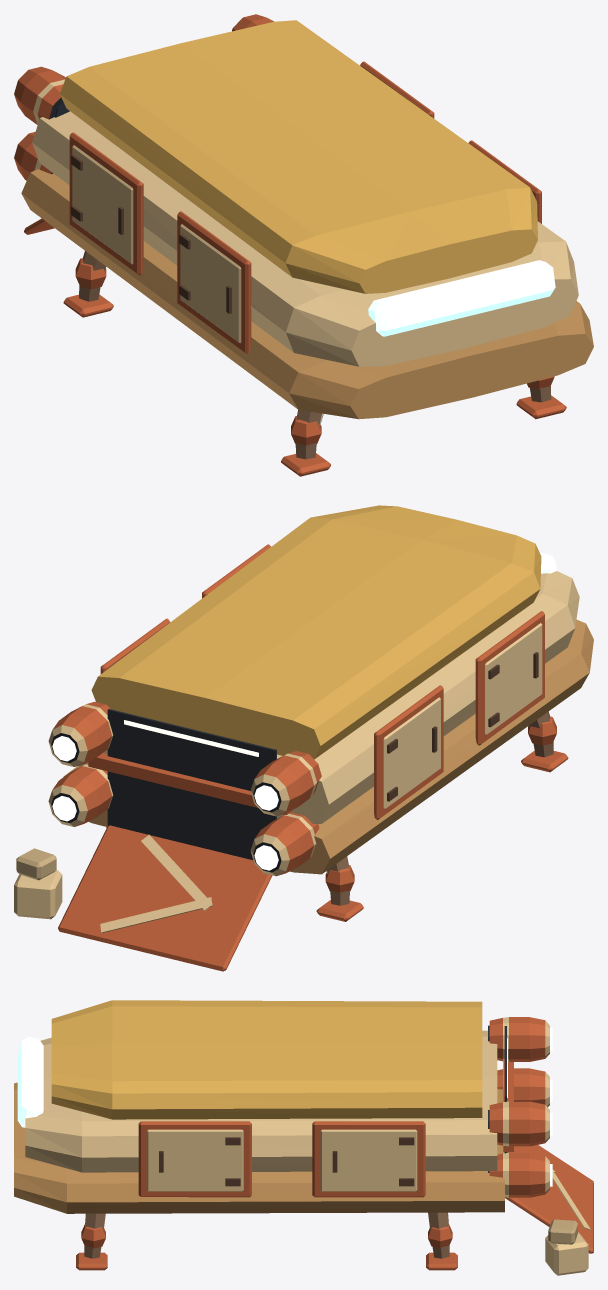
Rendered from dun-f_offen.glb.
The picture shows the model from 3 angles, top to bottom: view 1: azimuth 30°, elevation 25°; view 2: azimuth 150°, elevation 25°; view 3: azimuth 270°, elevation 25°; orthographic projection. The views are drawn at different scales.
Parts seen in each view (by area): view 1: rumpf_oben, rumpf_mitte, rumpf_unten, frachttür_4, frachttür_3, cockpit, triebwerk_2, landebein_2, landebein_4, landebein_1, triebwerk_4; view 2: rumpf_oben, rampe, laderaum, rumpf_mitte, rumpf_unten, frachttür_4, frachttür_3, triebwerk_2, triebwerk_4, triebwerk_1, ladung, triebwerk_3 (+3 smaller); view 3: rumpf_oben, rumpf_mitte, rumpf_unten, frachttür_2, frachttür_1, rampe, triebwerk_1, triebwerk_2, triebwerk_3, cockpit, ladung, landebein_3 (+3 smaller).
Part boxes in pixels (<box>): rumpf_oben: <box>60,20,537,293</box>; rumpf_mitte: <box>32,111,578,366</box>; rumpf_unten: <box>21,169,593,419</box>; frachttür_4: <box>69,132,143,275</box>; frachttür_3: <box>177,211,251,353</box>; cockpit: <box>368,260,555,336</box>; triebwerk_2: <box>14,66,69,124</box>; landebein_2: <box>281,410,330,476</box>; landebein_4: <box>63,251,113,317</box>; landebein_1: <box>516,376,566,419</box>; triebwerk_4: <box>14,132,53,180</box>; rumpf_oben: <box>91,505,541,759</box>; rampe: <box>58,825,272,971</box>; laderaum: <box>107,709,276,859</box>; rumpf_mitte: <box>78,571,579,823</box>; rumpf_unten: <box>63,619,593,874</box>; frachttür_4: <box>374,685,443,819</box>; frachttür_3: <box>475,611,544,745</box>; triebwerk_2: <box>250,751,321,816</box>; triebwerk_4: <box>250,812,319,876</box>; triebwerk_1: <box>48,701,113,766</box>; ladung: <box>14,848,62,919</box>; triebwerk_3: <box>48,763,113,826</box>; rumpf_oben: <box>51,1000,482,1119</box>; rumpf_mitte: <box>25,1030,497,1172</box>; rumpf_unten: <box>14,1082,504,1213</box>; frachttür_2: <box>312,1121,425,1197</box>; frachttür_1: <box>138,1121,251,1197</box>; rampe: <box>505,1145,593,1253</box>; triebwerk_1: <box>488,1101,552,1146</box>; triebwerk_2: <box>488,1017,552,1061</box>; triebwerk_3: <box>488,1153,552,1197</box>; cockpit: <box>17,1037,43,1127</box>; ladung: <box>545,1219,588,1275</box>; landebein_3: <box>426,1212,457,1270</box>.
Size of the model in its own units: 0.0943 by 0.0646 by 0.192.
